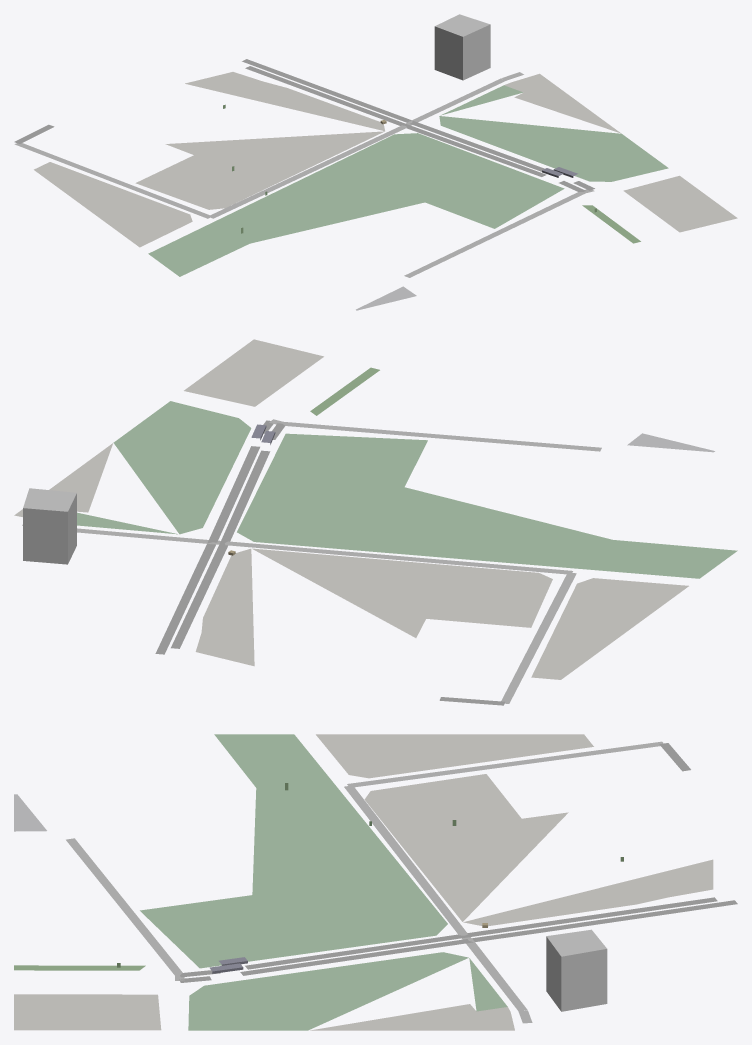
3 views of the same model, one above another, from view 1: azimuth 30°, elevation 25°; view 2: azimuth 150°, elevation 25°; view 3: azimuth 270°, elevation 25° (orthographic). The views are drawn at different scales.
Bounding box in the file's own units: 500 × 43.5 × 518.
